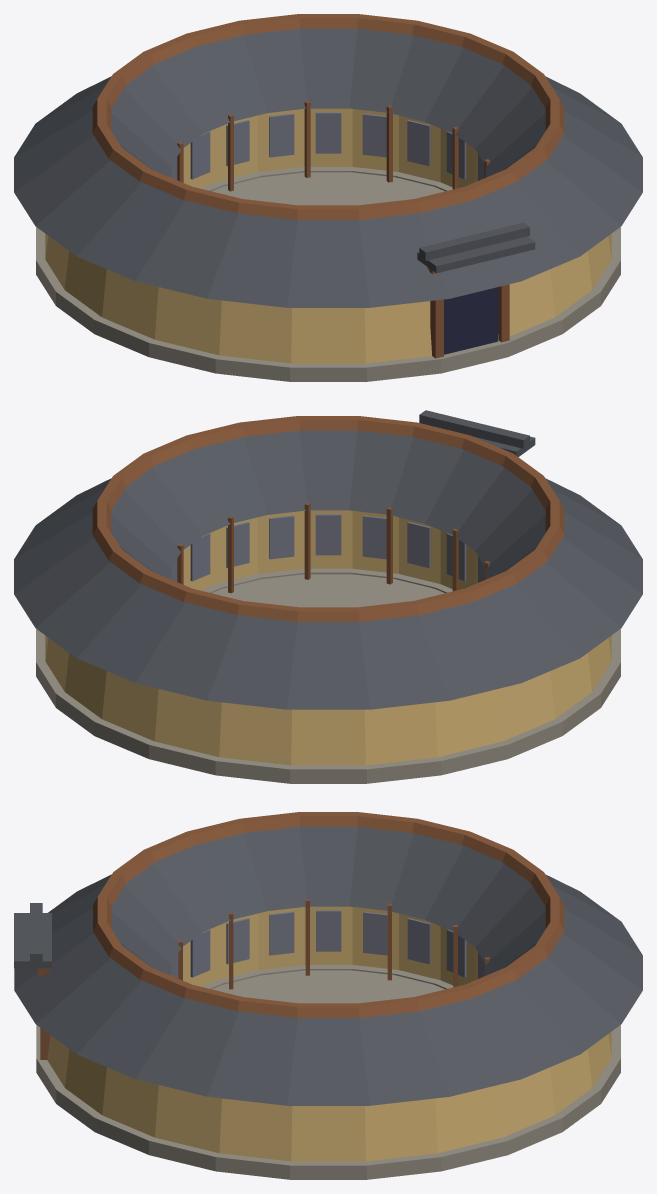
Rendered from house-2x2-1f-tulou-a.glb.
3 views of the same model, one above another, from view 1: azimuth 30°, elevation 25°; view 2: azimuth 150°, elevation 25°; view 3: azimuth 270°, elevation 25° (orthographic).
Parts seen in each view (by area): view 1: house-2x2-1f-tulou-a; view 2: house-2x2-1f-tulou-a; view 3: house-2x2-1f-tulou-a.
Boxes of the visible parts, x1=… form: house-2x2-1f-tulou-a: x1=14, y1=14, x2=642, y2=381; house-2x2-1f-tulou-a: x1=14, y1=410, x2=642, y2=783; house-2x2-1f-tulou-a: x1=14, y1=812, x2=642, y2=1179.
Bounding box in the file's own units: 1.98 × 0.51 × 1.98.
1 material, 1 textured.
